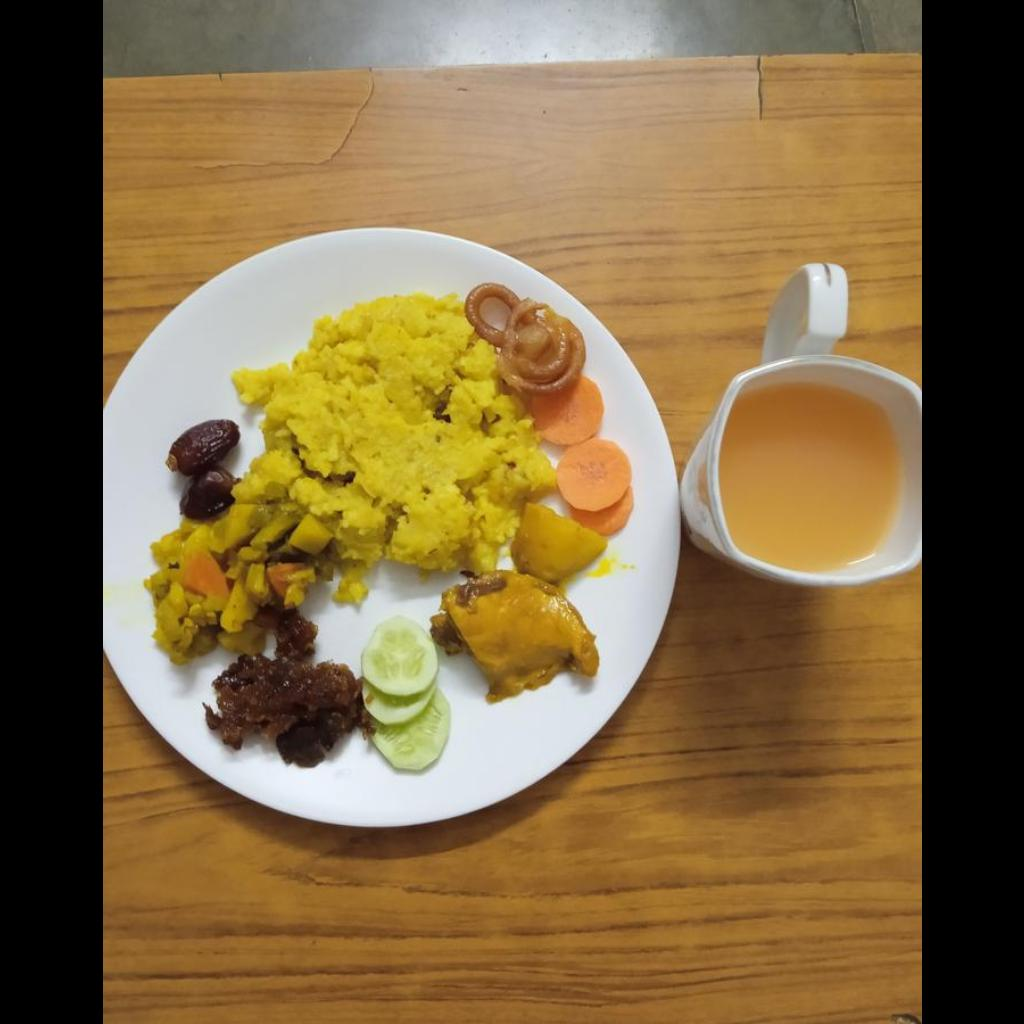achar: (204, 608, 360, 766)
carrot: (526, 375, 631, 535)
chicken: (427, 577, 599, 703)
cucumber: (361, 619, 457, 771)
dates: (167, 420, 239, 520)
jilapi: (466, 278, 582, 392)
juice: (719, 385, 901, 571)
khichuri: (239, 294, 559, 569)
vegetable: (146, 498, 331, 662)
